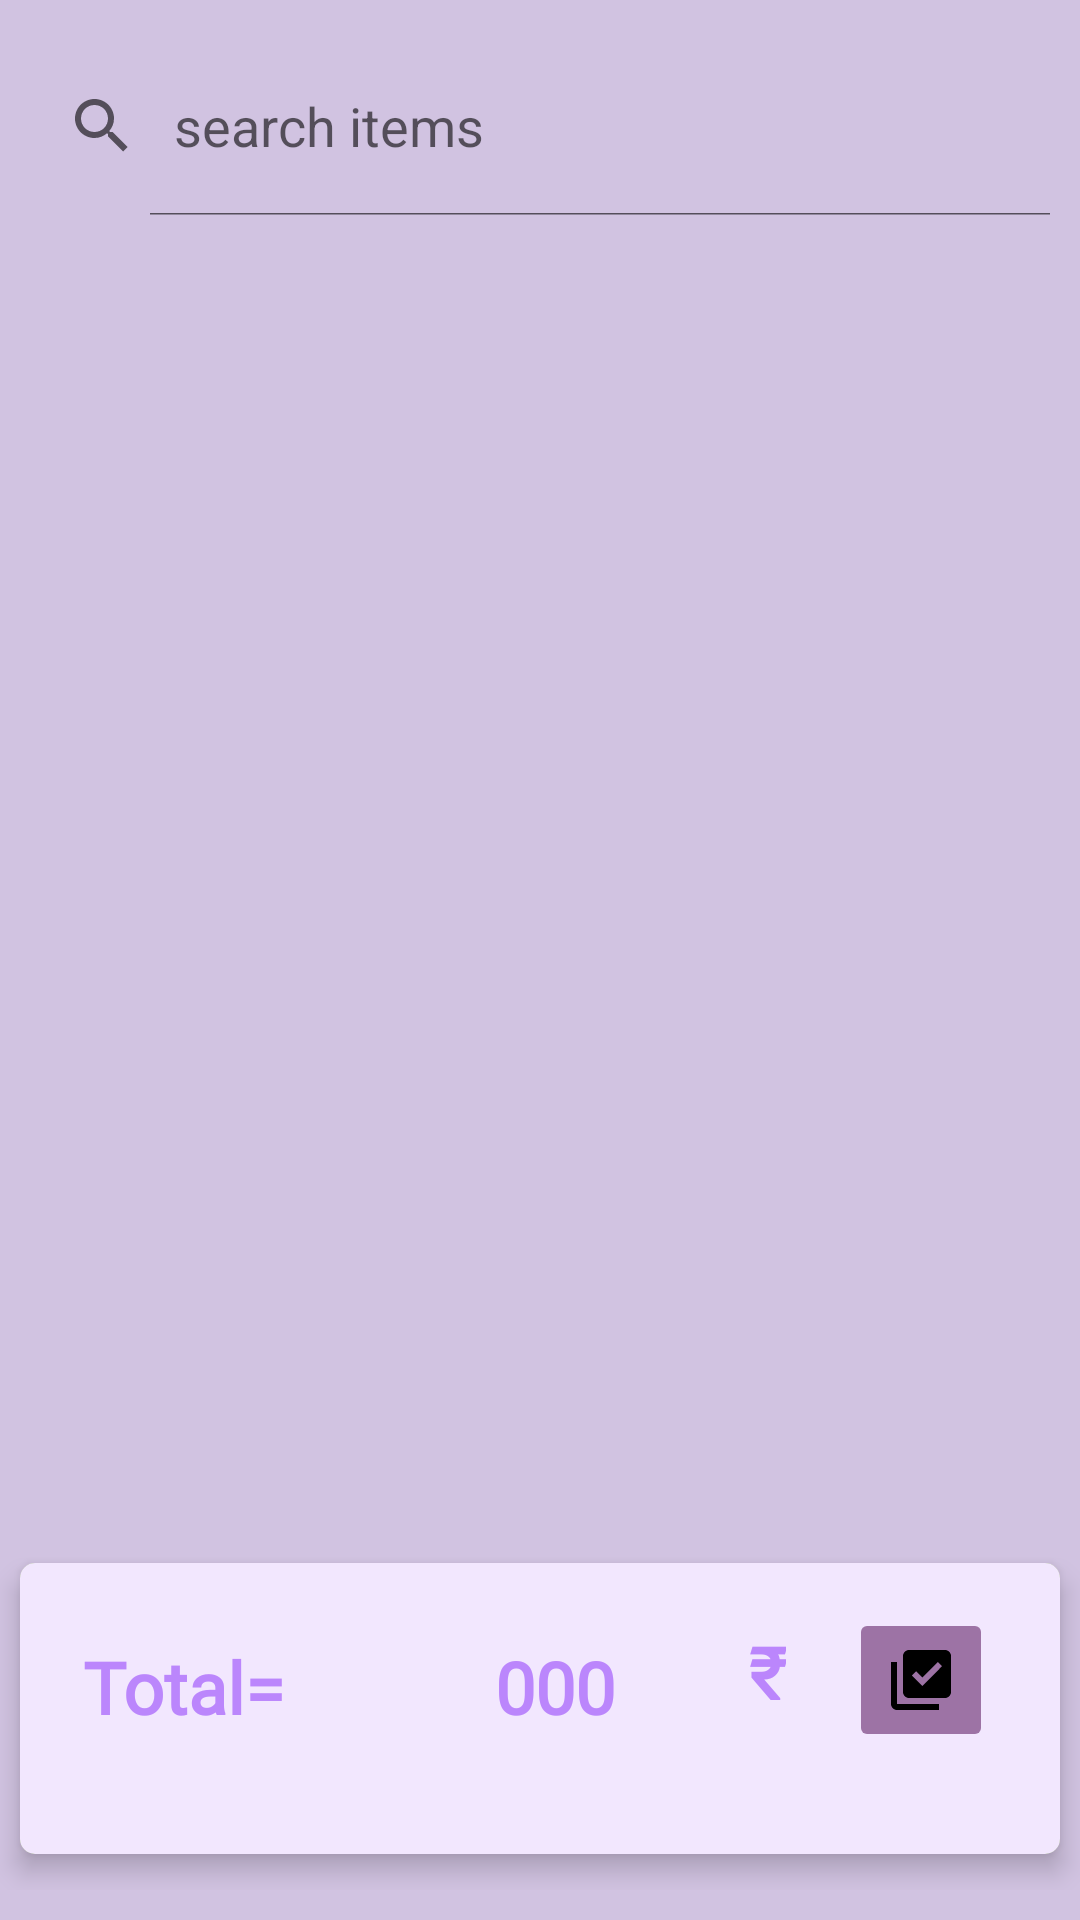

Named icons in this screenshot (1080×1920) and their bounding boxes, (x1, y1, x2, y2):
library add check: (861, 1626, 981, 1734)
